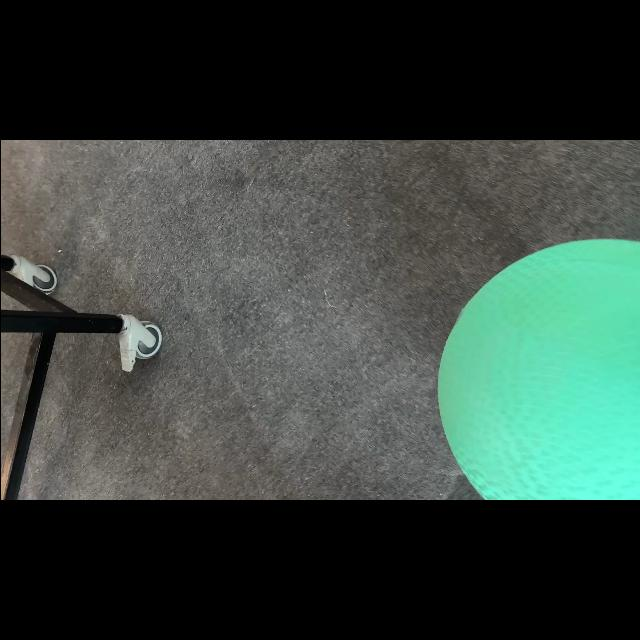ALGAE: (435, 238, 639, 500)
